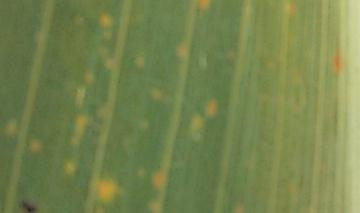tarspot: (22, 200, 36, 213)
